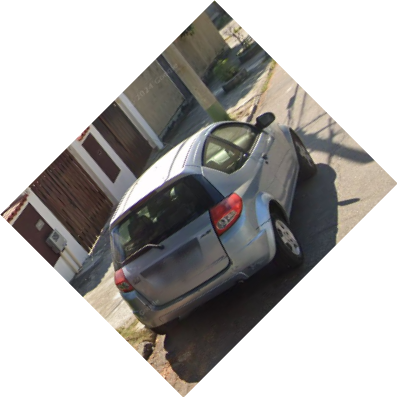car: (108, 115, 317, 337)
